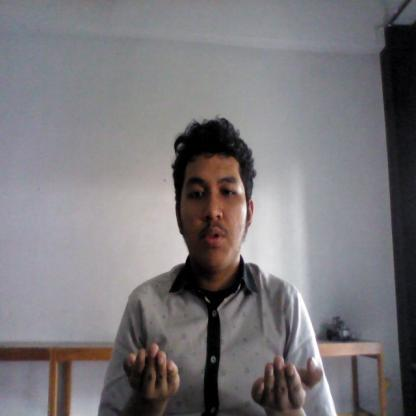Apa: (120, 341, 328, 413)
